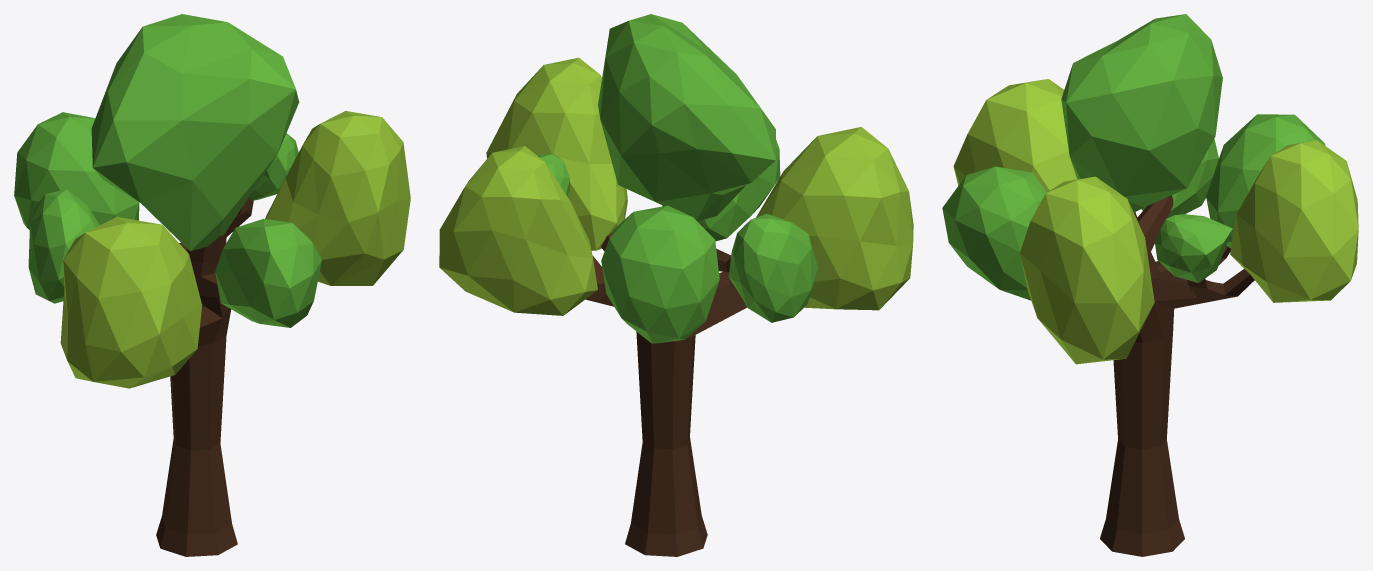
Rendered from Tree4.fbx.
3 renders of one model, left to right at view 1: azimuth 30°, elevation 25°; view 2: azimuth 150°, elevation 25°; view 3: azimuth 270°, elevation 25°, orthographic.
Parts seen in each view (by area): view 1: Tree 4; view 2: Tree 4; view 3: Tree 4.
Boxes of the visible parts, left/top/right/bottom form: Tree 4: left=14, top=14, right=410, bottom=556; Tree 4: left=439, top=14, right=913, bottom=556; Tree 4: left=942, top=14, right=1358, bottom=556.
Bounding box in the file's own units: 387 × 508 × 373.
